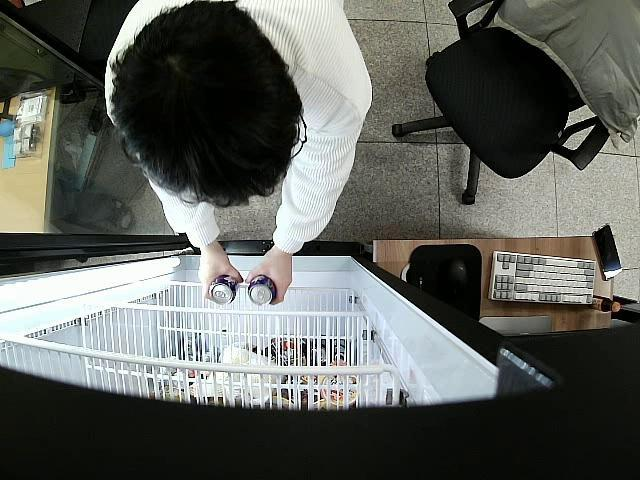14_welchsGrape: (208, 274, 238, 306), (250, 271, 276, 306)
